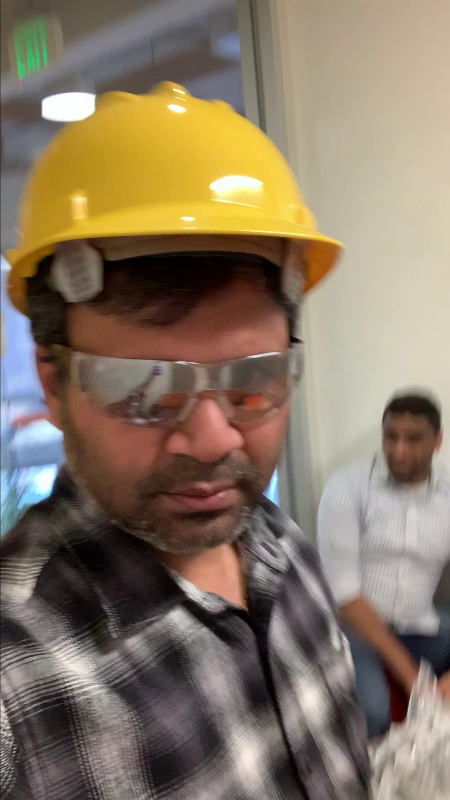glasses: (62, 343, 316, 438)
helmet: (2, 77, 346, 301)
